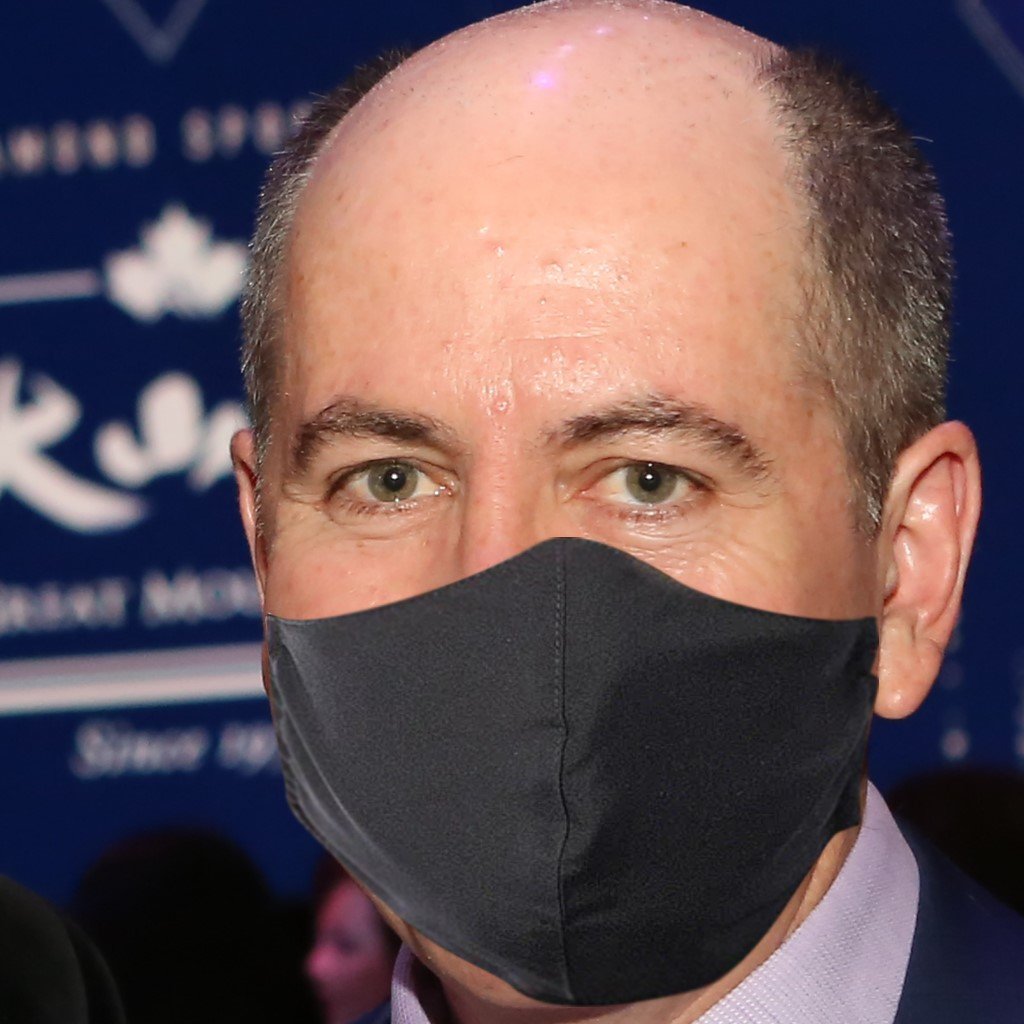con_mascara: (231, 102, 869, 987)
